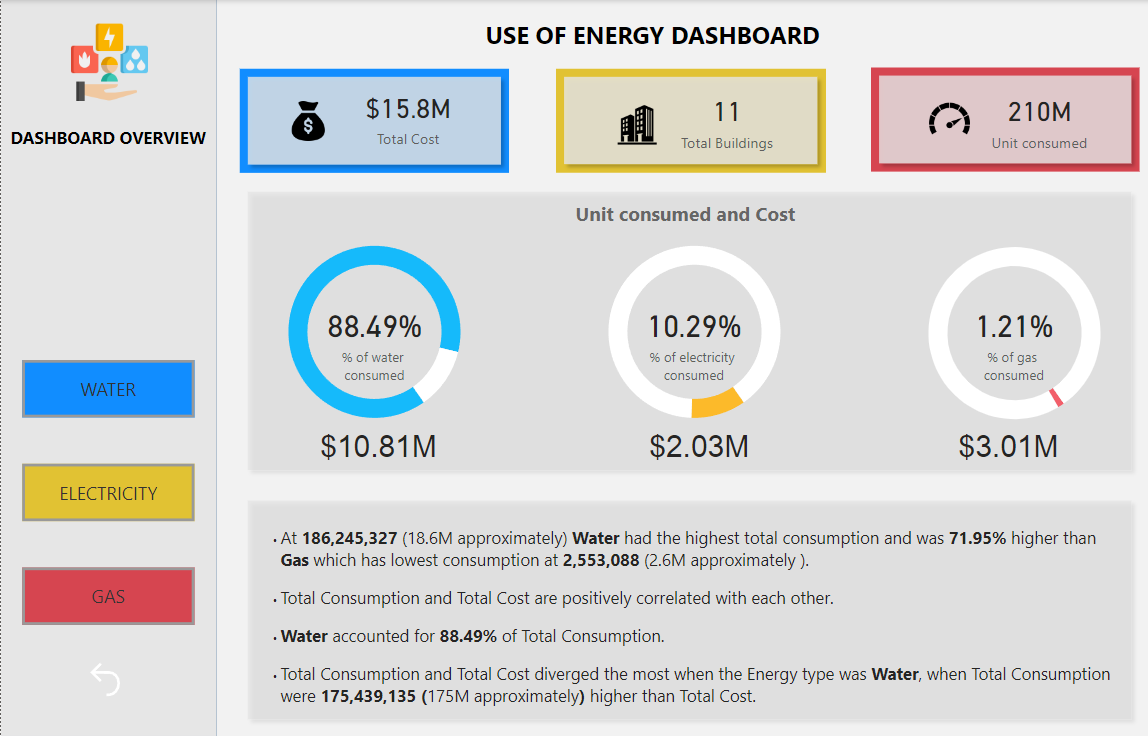

This screenshot's page, from the dashboard's own definition file:
{"tool":"powerbi","page":{"name":" OVERVIEW","canvas":[1280,820],"ordinal":0},"visuals":[{"type":"shape","box":[266.5,205,1002.2,328],"z":0},{"type":"shape","box":[0,0,240.4,820],"z":1000},{"type":"shape","box":[618.7,76.8,300.1,115.2],"z":2000,"group":"g1"},{"type":"shape","box":[969.6,74.8,299,115.8],"z":2000},{"type":"donutChart","fields":{"Y":["All Measures.Water Unit consumed","All Measures.Water Unit consumed left"]},"box":[271.4,245.3,289.4,249.6],"z":3000},{"type":"card","fields":{"Values":["All Measures.Water Cost"]},"box":[287.3,461.2,267.7,72.4],"z":4000},{"type":"shape","title":"Total Cost","box":[266.5,77.2,300,115.8],"z":5000},{"type":"card","fields":{"Values":["All Measures.% of water consumed"]},"box":[352.2,291.1,127.8,159.2],"z":6000},{"type":"donutChart","fields":{"Y":["All Measures.Gas Unit consumed","All Measures.Gas Unit consumed left"]},"box":[984.1,246.5,289.4,249.6],"z":7000},{"type":"donutChart","fields":{"Y":["All Measures.Electricity Unit consumed","All Measures.Electricity Unit consumed left"]},"box":[627.7,245.3,289.4,249.6],"z":8000},{"type":"card","fields":{"Values":["All Measures.% of gas consumed"]},"box":[1064.9,291.1,126.6,159.2],"z":9000},{"type":"card","fields":{"Values":["All Measures.% of electricity consumed"]},"box":[709.1,291.1,126.6,159.2],"z":10000},{"type":"card","fields":{"Values":["All Measures.Gas Cost"]},"box":[989.2,461.2,267.7,72.4],"z":11000},{"type":"card","fields":{"Values":["All Measures.Electricity Cost"]},"box":[644.3,461.2,266.5,72.4],"z":12000},{"type":"textbox","box":[535.3,15.9,489.1,62],"z":13000},{"type":"image","box":[66.3,15.7,108.5,108.5],"z":14000},{"type":"textbox","box":[5.6,135,235.3,69.6],"z":15000},{"type":"group","id":"g1","title":"Group 2","box":[618.7,76.8,300.1,115.2],"z":16000},{"type":"card","fields":{"Values":["All Measures.Unit consumed"]},"box":[1056.5,84.4,200.2,96.5],"z":17000},{"type":"card","fields":{"Values":["Count(Building Master.Building)"]},"box":[709.2,81.6,200.3,105.6],"z":18000,"group":"g1"},{"type":"textbox","box":[634.8,219,264.5,45.9],"z":18000},{"type":"actionButton","box":[23.2,401.1,191.8,63.9],"z":19000},{"type":"card","fields":{"Values":["All Measures.Total Cost"]},"box":[353.4,77.2,200.2,106.1],"z":20000},{"type":"image","box":[674.2,111.6,70,55.2],"z":21000,"group":"g1"},{"type":"actionButton","box":[23.2,516.9,191.8,63.9],"z":21000},{"type":"image","box":[314.8,107.3,55.5,55.5],"z":22000},{"type":"image","box":[1028.7,104.9,55.5,55.5],"z":23000},{"type":"actionButton","box":[23.2,632.7,191.8,63.9],"z":24000},{"type":"actionButton","box":[91.9,732.3,64,48.7],"z":25000},{"type":"shape","box":[265.9,548.5,1002.4,261.7],"z":26000},{"type":"textbox","box":[288.7,580.3,970,217.6],"z":27000}]}

Visuals, with their boxes in screenshot pixels (x1, y1, x2, y2), scaled from the page's 1280x820 canvas onto the 1148x736 screenshot:
shape: [left=239, top=184, right=1138, bottom=478]
shape: [left=0, top=0, right=216, bottom=735]
shape: [left=555, top=69, right=824, bottom=172]
shape: [left=870, top=67, right=1138, bottom=171]
donutChart - All Measures.Water Unit consumed x All Measures.Water Unit consumed left: [left=243, top=220, right=503, bottom=444]
card - All Measures.Water Cost: [left=258, top=414, right=498, bottom=479]
"Total Cost" shape: [left=239, top=69, right=508, bottom=173]
card - All Measures.% of water consumed: [left=316, top=261, right=430, bottom=404]
donutChart - All Measures.Gas Unit consumed x All Measures.Gas Unit consumed left: [left=883, top=221, right=1142, bottom=445]
donutChart - All Measures.Electricity Unit consumed x All Measures.Electricity Unit consumed left: [left=563, top=220, right=823, bottom=444]
card - All Measures.% of gas consumed: [left=955, top=261, right=1069, bottom=404]
card - All Measures.% of electricity consumed: [left=636, top=261, right=750, bottom=404]
card - All Measures.Gas Cost: [left=887, top=414, right=1127, bottom=479]
card - All Measures.Electricity Cost: [left=578, top=414, right=817, bottom=479]
textbox: [left=480, top=14, right=919, bottom=70]
image: [left=59, top=14, right=157, bottom=111]
textbox: [left=5, top=121, right=216, bottom=184]
"Group 2" group: [left=555, top=69, right=824, bottom=172]
card - All Measures.Unit consumed: [left=948, top=76, right=1127, bottom=162]
card - Count(Building Master.Building): [left=636, top=73, right=816, bottom=168]
textbox: [left=569, top=197, right=807, bottom=238]
actionButton: [left=21, top=360, right=193, bottom=417]
card - All Measures.Total Cost: [left=317, top=69, right=497, bottom=165]
image: [left=605, top=100, right=667, bottom=150]
actionButton: [left=21, top=464, right=193, bottom=521]
image: [left=282, top=96, right=332, bottom=146]
image: [left=923, top=94, right=972, bottom=144]
actionButton: [left=21, top=568, right=193, bottom=625]
actionButton: [left=82, top=657, right=140, bottom=701]
shape: [left=238, top=492, right=1138, bottom=727]
textbox: [left=259, top=521, right=1129, bottom=716]
